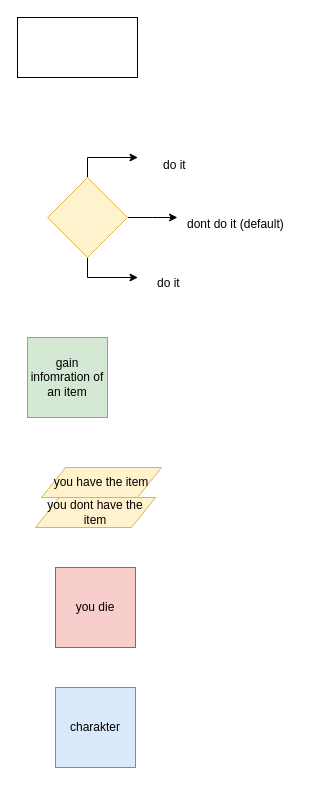
The diagram is 313 pixels wide and 785 high, and some of its shapes have lost their labels. The shapes that lost their labels are listed below. From the top down, each one's centre as x and y in pixels, then its label:
At (77,47): "Event".
At (87,217): "player action".
